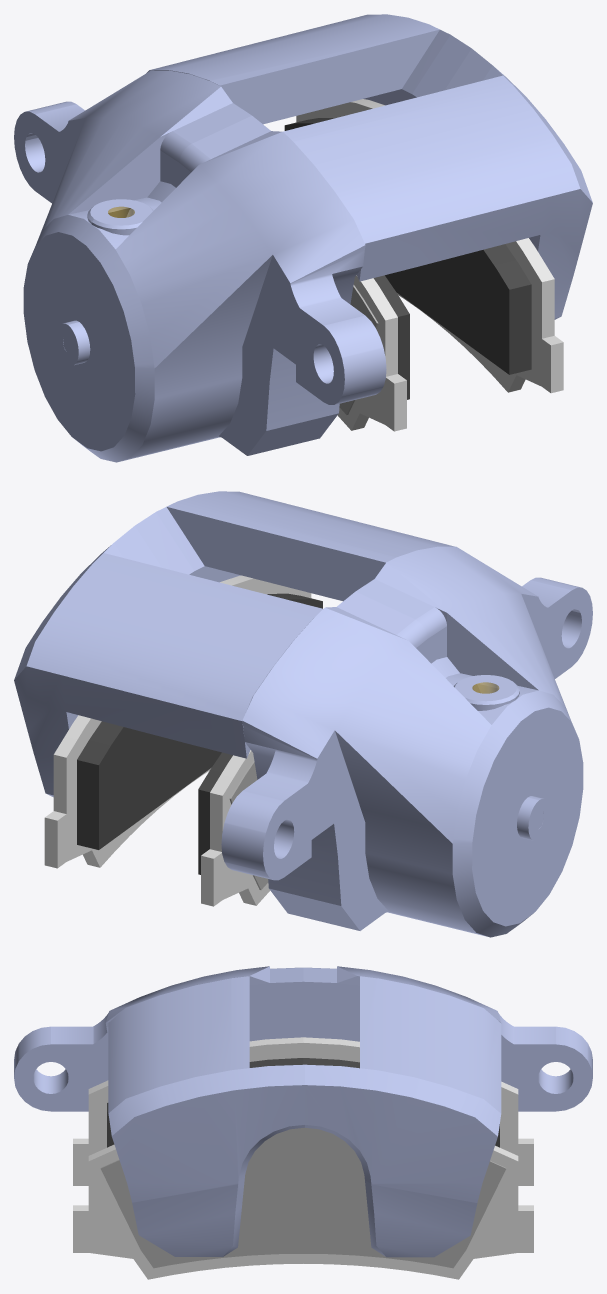
File: BrakePads_and_Caliper.obj
3 views of the same model, one above another, from view 1: azimuth 30°, elevation 25°; view 2: azimuth 150°, elevation 25°; view 3: azimuth 270°, elevation 25° (orthographic). The views are drawn at different scales.
Visible parts, largest first — view 1: Mesh5 Group5 Model, Mesh3 Group_37_3 Group_51_1 Group4 Model, Mesh1 Group_37_1 Group2 Group1 Model, Mesh4 Group_37_4 Group_51_2 Group4 Model; view 2: Mesh5 Group5 Model, Mesh4 Group_37_4 Group_51_2 Group4 Model, Mesh2 Group_37_2 Group3 Group1 Model, Mesh3 Group_37_3 Group_51_1 Group4 Model; view 3: Mesh5 Group5 Model, Mesh4 Group_37_4 Group_51_2 Group4 Model, Mesh3 Group_37_3 Group_51_1 Group4 Model, Mesh1 Group_37_1 Group2 Group1 Model, Mesh2 Group_37_2 Group3 Group1 Model.
Part boxes in pixels (x1,y1,x2,y2): Mesh5 Group5 Model: [14, 14, 592, 462]; Mesh3 Group_37_3 Group_51_1 Group4 Model: [397, 238, 563, 393]; Mesh1 Group_37_1 Group2 Group1 Model: [337, 275, 409, 431]; Mesh4 Group_37_4 Group_51_2 Group4 Model: [284, 99, 418, 308]; Mesh5 Group5 Model: [14, 491, 592, 937]; Mesh4 Group_37_4 Group_51_2 Group4 Model: [44, 715, 210, 868]; Mesh2 Group_37_2 Group3 Group1 Model: [198, 750, 269, 906]; Mesh3 Group_37_3 Group_51_1 Group4 Model: [189, 575, 322, 784]; Mesh5 Group5 Model: [14, 966, 592, 1257]; Mesh4 Group_37_4 Group_51_2 Group4 Model: [303, 1127, 533, 1279]; Mesh3 Group_37_3 Group_51_1 Group4 Model: [73, 1128, 303, 1279]; Mesh1 Group_37_1 Group2 Group1 Model: [73, 1037, 303, 1185]; Mesh2 Group_37_2 Group3 Group1 Model: [303, 1037, 533, 1185].
Size of the model in its own units: 5.31 by 3.76 by 7.26.
